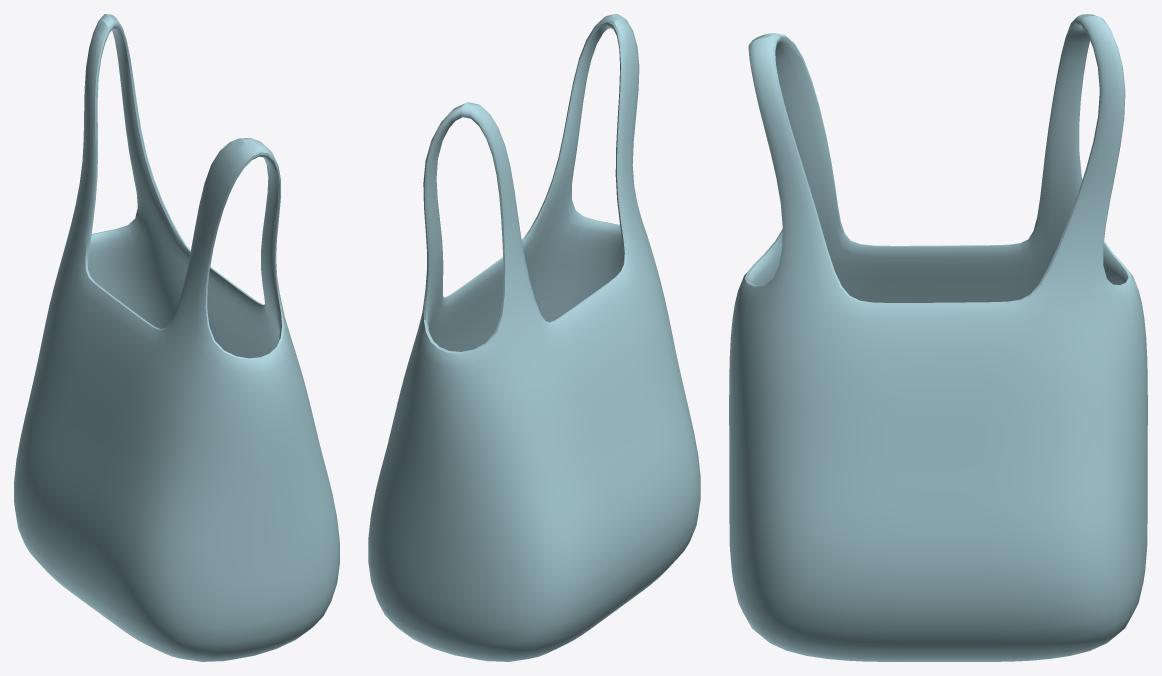
Rendered from Plastic Bag.fbx.
The picture shows the model from 3 angles, left to right: view 1: azimuth 30°, elevation 25°; view 2: azimuth 150°, elevation 25°; view 3: azimuth 270°, elevation 25°; orthographic projection. The views are drawn at different scales.
Parts seen in each view (by area): view 1: Plastic Bag Preped; view 2: Plastic Bag Preped; view 3: Plastic Bag Preped.
Part boxes in pixels (left/top/right/bottom): Plastic Bag Preped: left=14, top=14, right=339, bottom=661; Plastic Bag Preped: left=368, top=14, right=700, bottom=661; Plastic Bag Preped: left=729, top=14, right=1147, bottom=661.
Bounding box in the file's own units: 29.98 × 75.08 × 45.44.
Materials: 1 (1 with a texture image).
